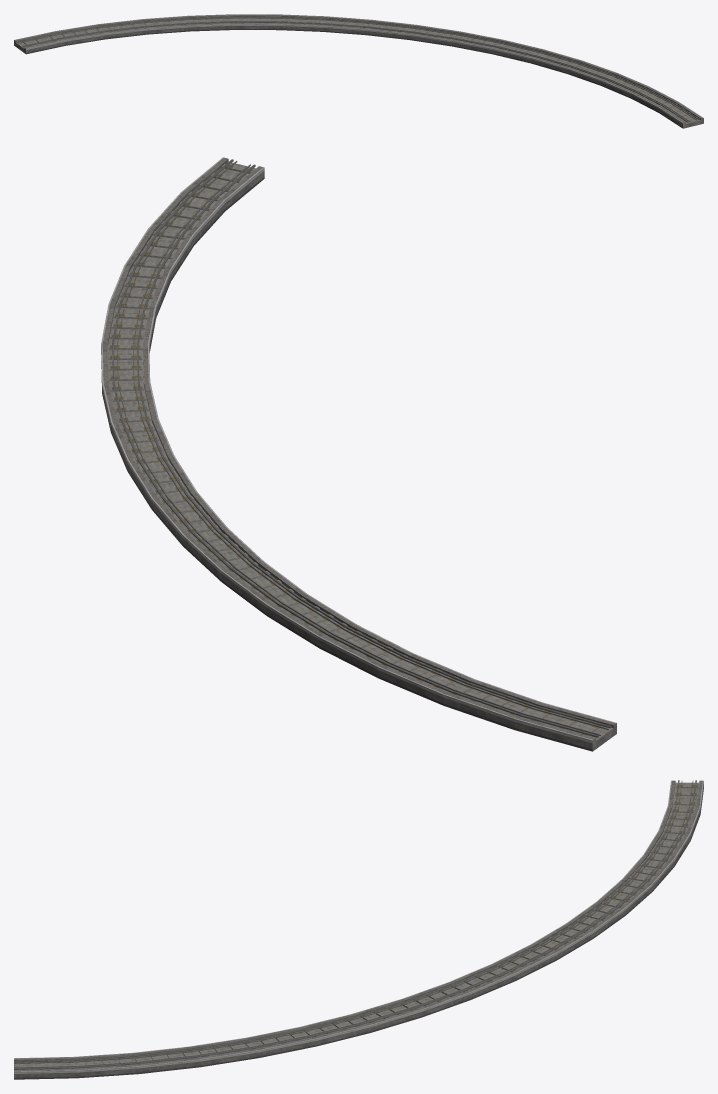
File: CP_Metro_Track_Angle_90deg.fbx
3 views of the same model, one above another, from view 1: azimuth 30°, elevation 25°; view 2: azimuth 150°, elevation 25°; view 3: azimuth 270°, elevation 25° (orthographic). The views are drawn at different scales.
Visible parts, largest first — view 1: CP_Metro_Track_Angle_90deg_LOD0; view 2: CP_Metro_Track_Angle_90deg_LOD0; view 3: CP_Metro_Track_Angle_90deg_LOD0.
Boxes of the visible parts, bbox=[...] form: CP_Metro_Track_Angle_90deg_LOD0: bbox=[14, 14, 703, 128]; CP_Metro_Track_Angle_90deg_LOD0: bbox=[101, 157, 616, 751]; CP_Metro_Track_Angle_90deg_LOD0: bbox=[14, 780, 703, 1079].
Size of what is drawn, in the model's own units: 8196 by 103 by 8196.
